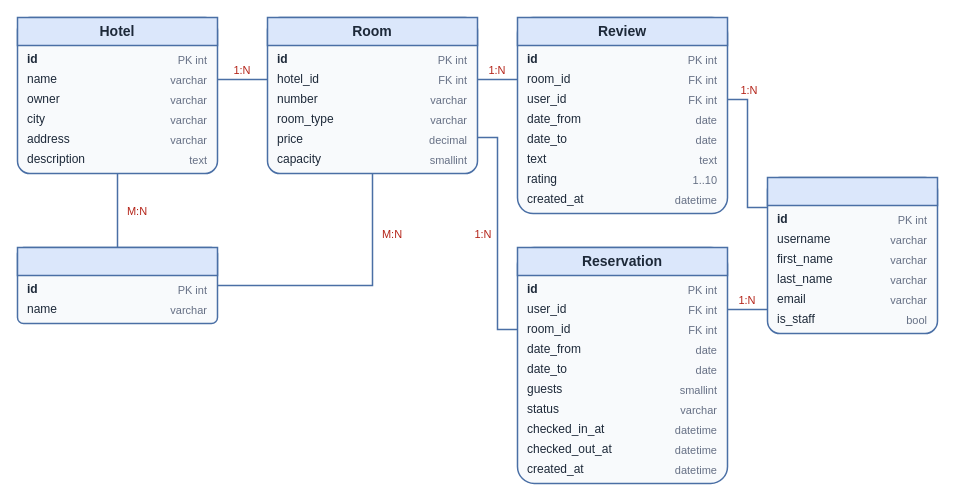
Image size: 960x502. Some labels were removed from this diagram. The centre of each missing label's shape, as x and y in pixels:
"Amenity" belongs at (x=117, y=261).
"User" belongs at (x=852, y=191).
